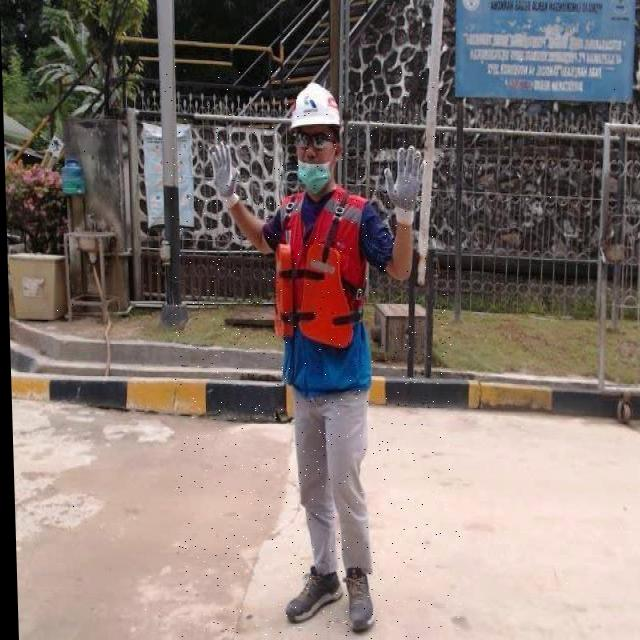Gloves: (380, 144, 424, 211), (209, 141, 240, 210)
Helmet: (286, 81, 343, 134)
Safety-Boot: (281, 565, 340, 622), (341, 566, 373, 631)
Safety-Vest: (268, 186, 374, 350)
